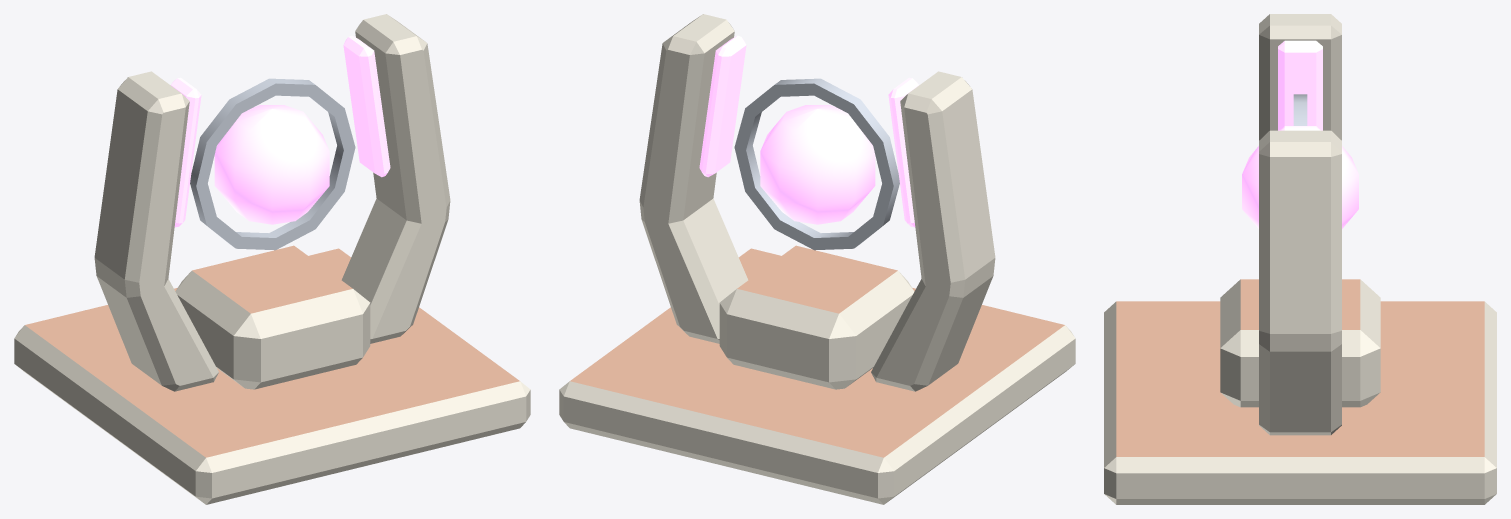
Rendered from R4X_Blink_LOD1.fbx.
3 views of the same model, side by side, from view 1: azimuth 30°, elevation 25°; view 2: azimuth 150°, elevation 25°; view 3: azimuth 270°, elevation 25° (orthographic).
Visible parts, largest first — view 1: R4X_Blink_LOD1; view 2: R4X_Blink_LOD1; view 3: R4X_Blink_LOD1.
Part boxes in pixels (bbox=[...]): R4X_Blink_LOD1: bbox=[14, 14, 530, 504]; R4X_Blink_LOD1: bbox=[559, 14, 1075, 504]; R4X_Blink_LOD1: bbox=[1104, 14, 1496, 504].
Size of the model in its own units: 0.52 by 0.51 by 0.52.
